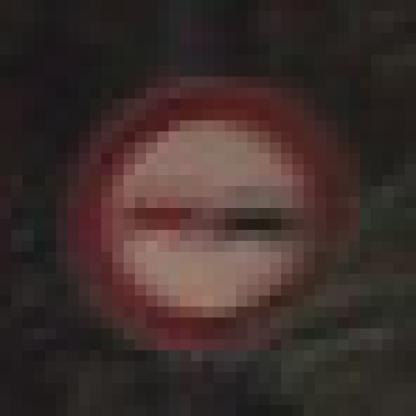No Overtaking: (57, 67, 361, 351)
